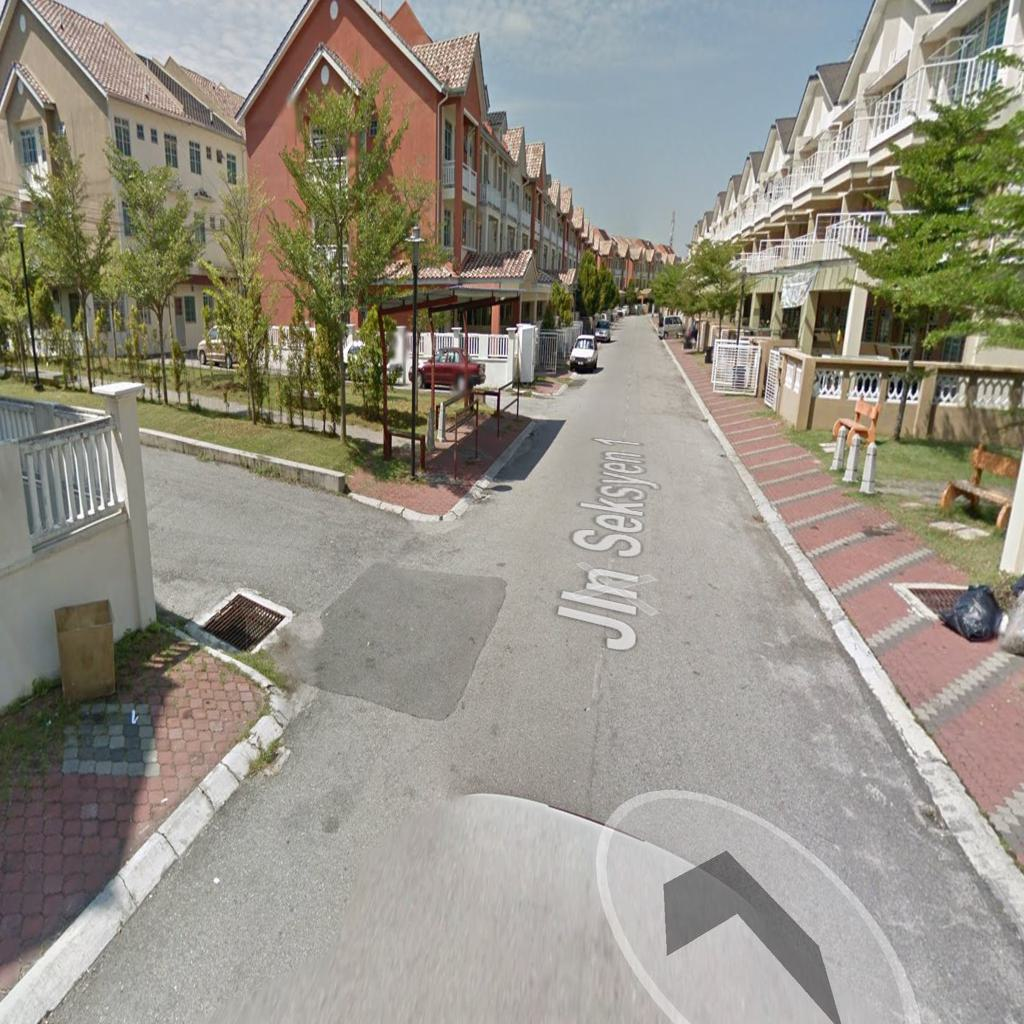Junction: (144, 444, 468, 730)
